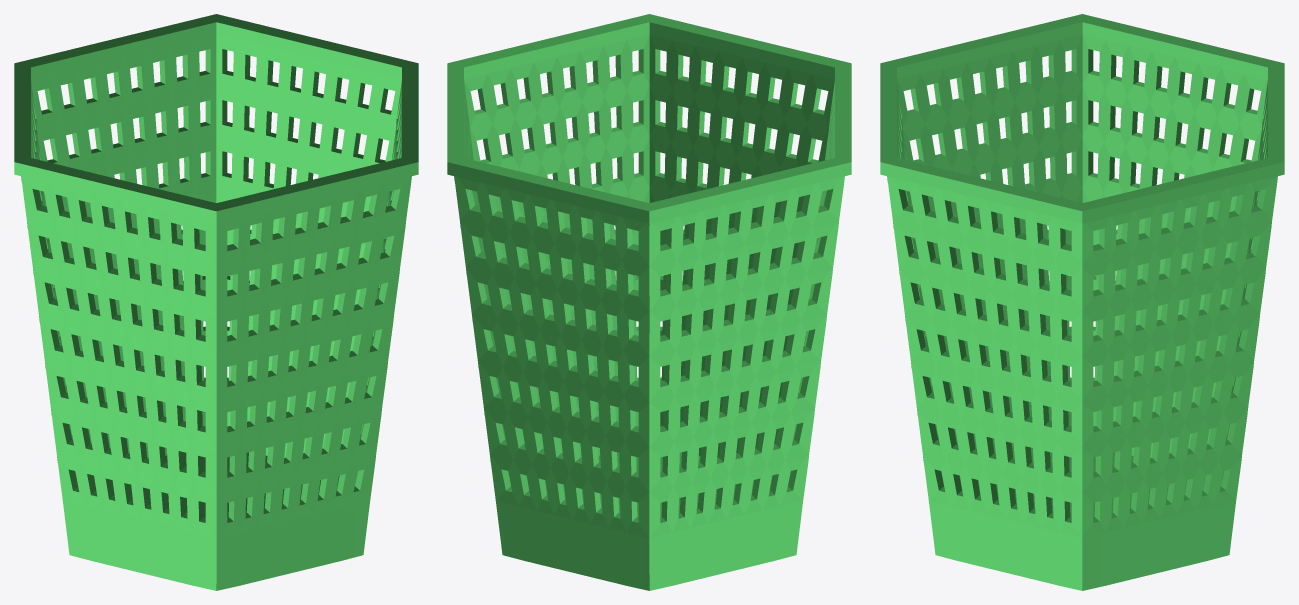
Rendered from Waste Basket.fbx.
3 renders of one model, left to right at view 1: azimuth 30°, elevation 25°; view 2: azimuth 150°, elevation 25°; view 3: azimuth 270°, elevation 25°, orthographic.
Visible parts, largest first — view 1: Waste Basket; view 2: Waste Basket; view 3: Waste Basket.
Boxes of the visible parts, box(x1,y1,x2,y2) form: Waste Basket: box(14, 14, 418, 590); Waste Basket: box(447, 14, 851, 590); Waste Basket: box(880, 14, 1284, 590).
Size of the model in its own units: 0.3889 by 0.4318 by 0.449.
